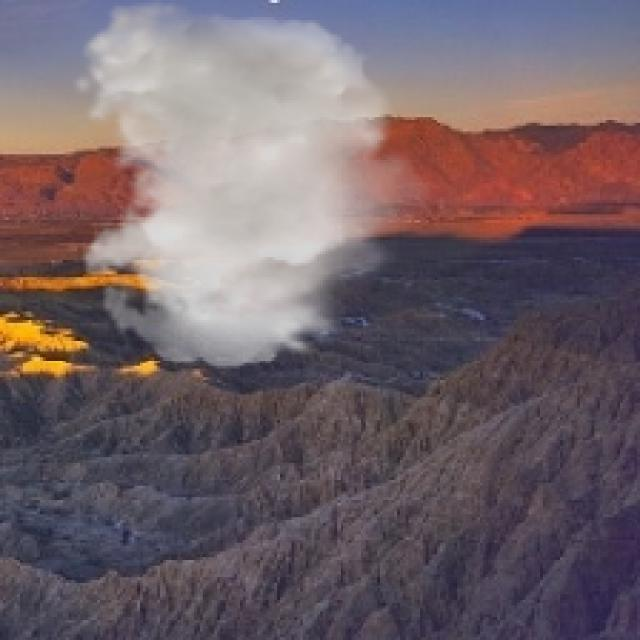smoke: (71, 0, 440, 369)
